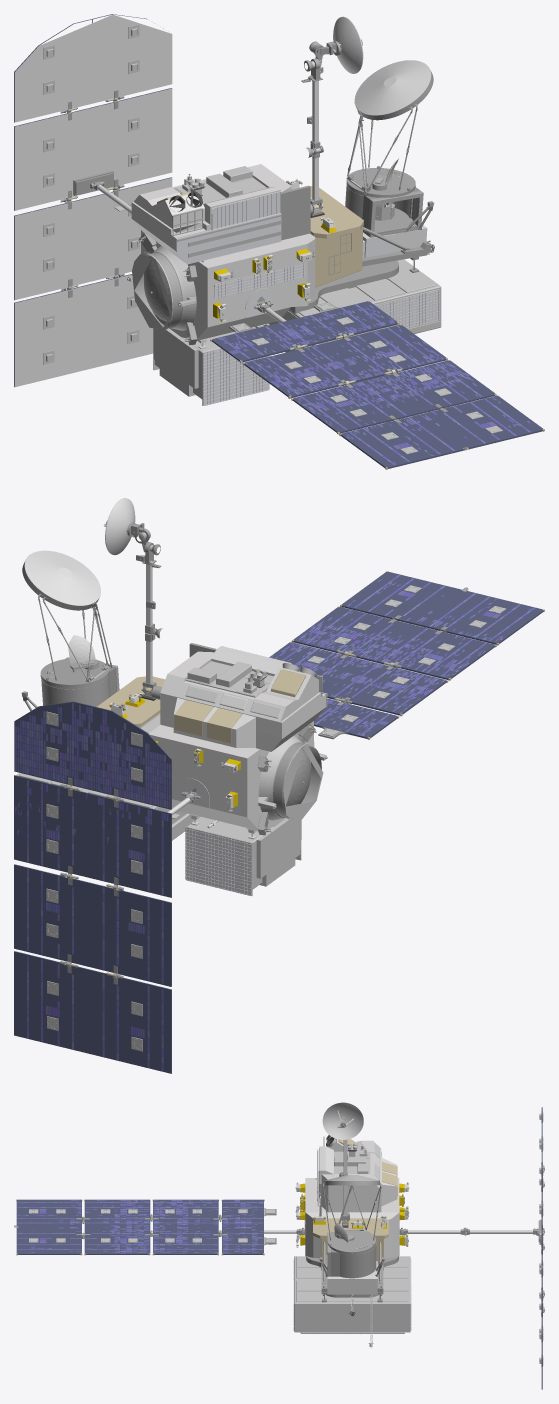
Rendered from gpm.glb.
3 views of the same model, one above another, from view 1: azimuth 30°, elevation 25°; view 2: azimuth 150°, elevation 25°; view 3: azimuth 270°, elevation 25° (orthographic). The views are drawn at different scales.
Visible parts, largest first — view 1: GPM-MainBus; view 2: GPM-MainBus; view 3: GPM-MainBus.
Part boxes in pixels (x1,y1,x2,y2): GPM-MainBus: (14, 14, 544, 469); GPM-MainBus: (14, 498, 544, 1073); GPM-MainBus: (14, 1102, 544, 1389).
Size of the model in its own units: 190 by 268 by 432.
